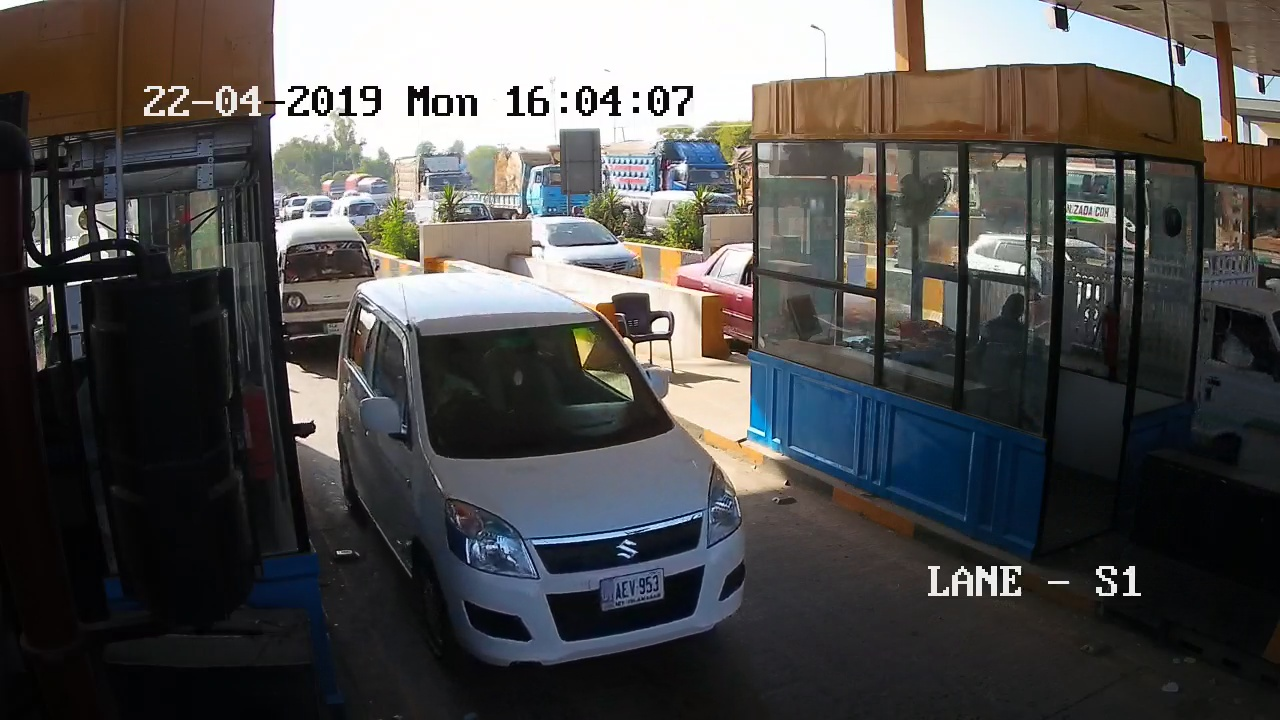Number Plate (Car): (599, 571, 671, 608), (324, 321, 345, 337)
